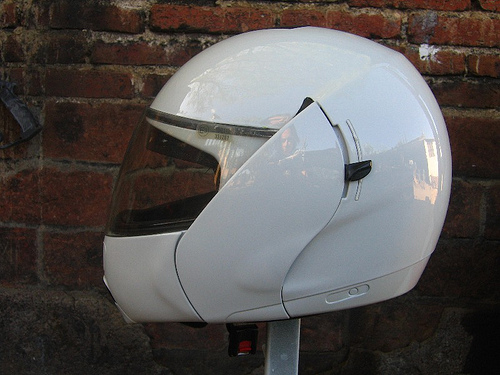helmet: (125, 30, 421, 306)
